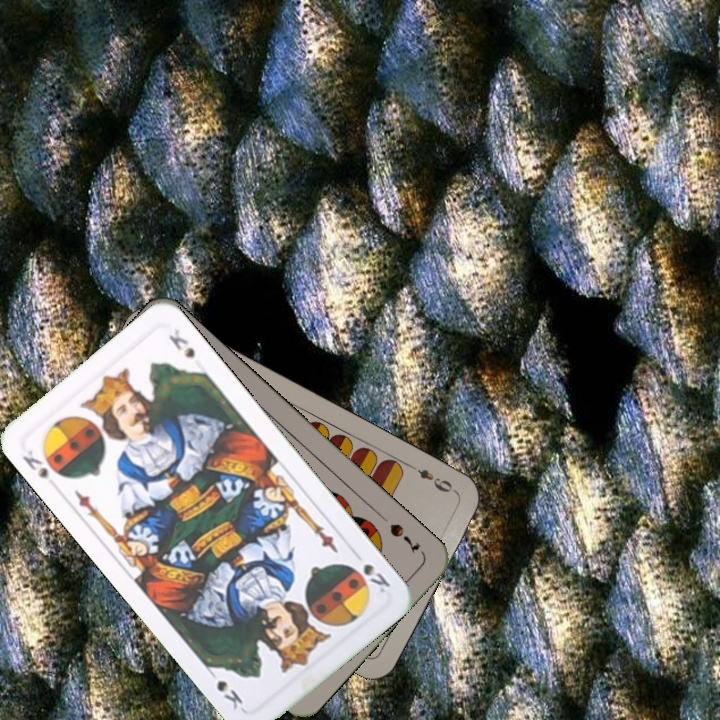E9: (405, 460, 459, 496)
S7: (385, 519, 424, 555)
SK: (349, 546, 393, 596), (18, 446, 51, 482)
